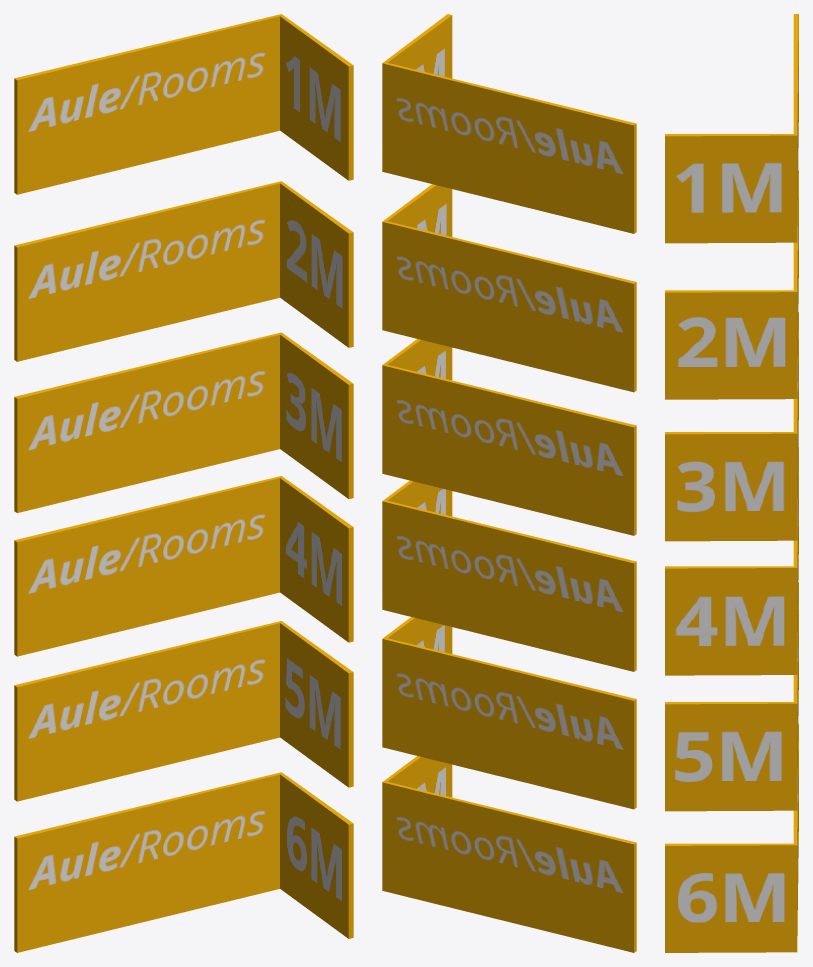
Rendered from Cartelli_Aule_M.fbx.
3 renders of one model, left to right at view 1: azimuth 30°, elevation 25°; view 2: azimuth 150°, elevation 25°; view 3: azimuth 270°, elevation 25°, orthographic. The views are drawn at different scales.
Parts seen in each view (by area): view 1: aule_T_Piegato.002, aule_T_Piegato.003, aule_T_Piegato.006, aule_T_Piegato.004, aule_T_Piegato.005, aule_T_Piegato.001; view 2: aule_T_Piegato.006, aule_T_Piegato.001, aule_T_Piegato.002, aule_T_Piegato.005, aule_T_Piegato.004, aule_T_Piegato.003; view 3: aule_T_Piegato.006, aule_T_Piegato.001, aule_T_Piegato.005, aule_T_Piegato.003, aule_T_Piegato.002, aule_T_Piegato.004.
Part boxes in pixels (x1=…): aule_T_Piegato.002: x1=14, y1=332, x2=353, y2=512; aule_T_Piegato.003: x1=14, y1=476, x2=353, y2=656; aule_T_Piegato.006: x1=14, y1=14, x2=353, y2=194; aule_T_Piegato.004: x1=14, y1=621, x2=353, y2=801; aule_T_Piegato.005: x1=14, y1=772, x2=353, y2=952; aule_T_Piegato.001: x1=14, y1=181, x2=353, y2=361; aule_T_Piegato.006: x1=382, y1=14, x2=636, y2=233; aule_T_Piegato.001: x1=382, y1=184, x2=636, y2=392; aule_T_Piegato.002: x1=382, y1=339, x2=636, y2=535; aule_T_Piegato.005: x1=382, y1=756, x2=636, y2=952; aule_T_Piegato.004: x1=382, y1=617, x2=636, y2=809; aule_T_Piegato.003: x1=382, y1=480, x2=636, y2=671; aule_T_Piegato.006: x1=665, y1=14, x2=798, y2=243; aule_T_Piegato.001: x1=665, y1=170, x2=798, y2=399; aule_T_Piegato.005: x1=665, y1=723, x2=798, y2=952; aule_T_Piegato.003: x1=665, y1=446, x2=798, y2=675; aule_T_Piegato.002: x1=665, y1=312, x2=798, y2=541; aule_T_Piegato.004: x1=665, y1=582, x2=798, y2=811.
Size of the model in its own units: 140 by 437 by 64.8.
